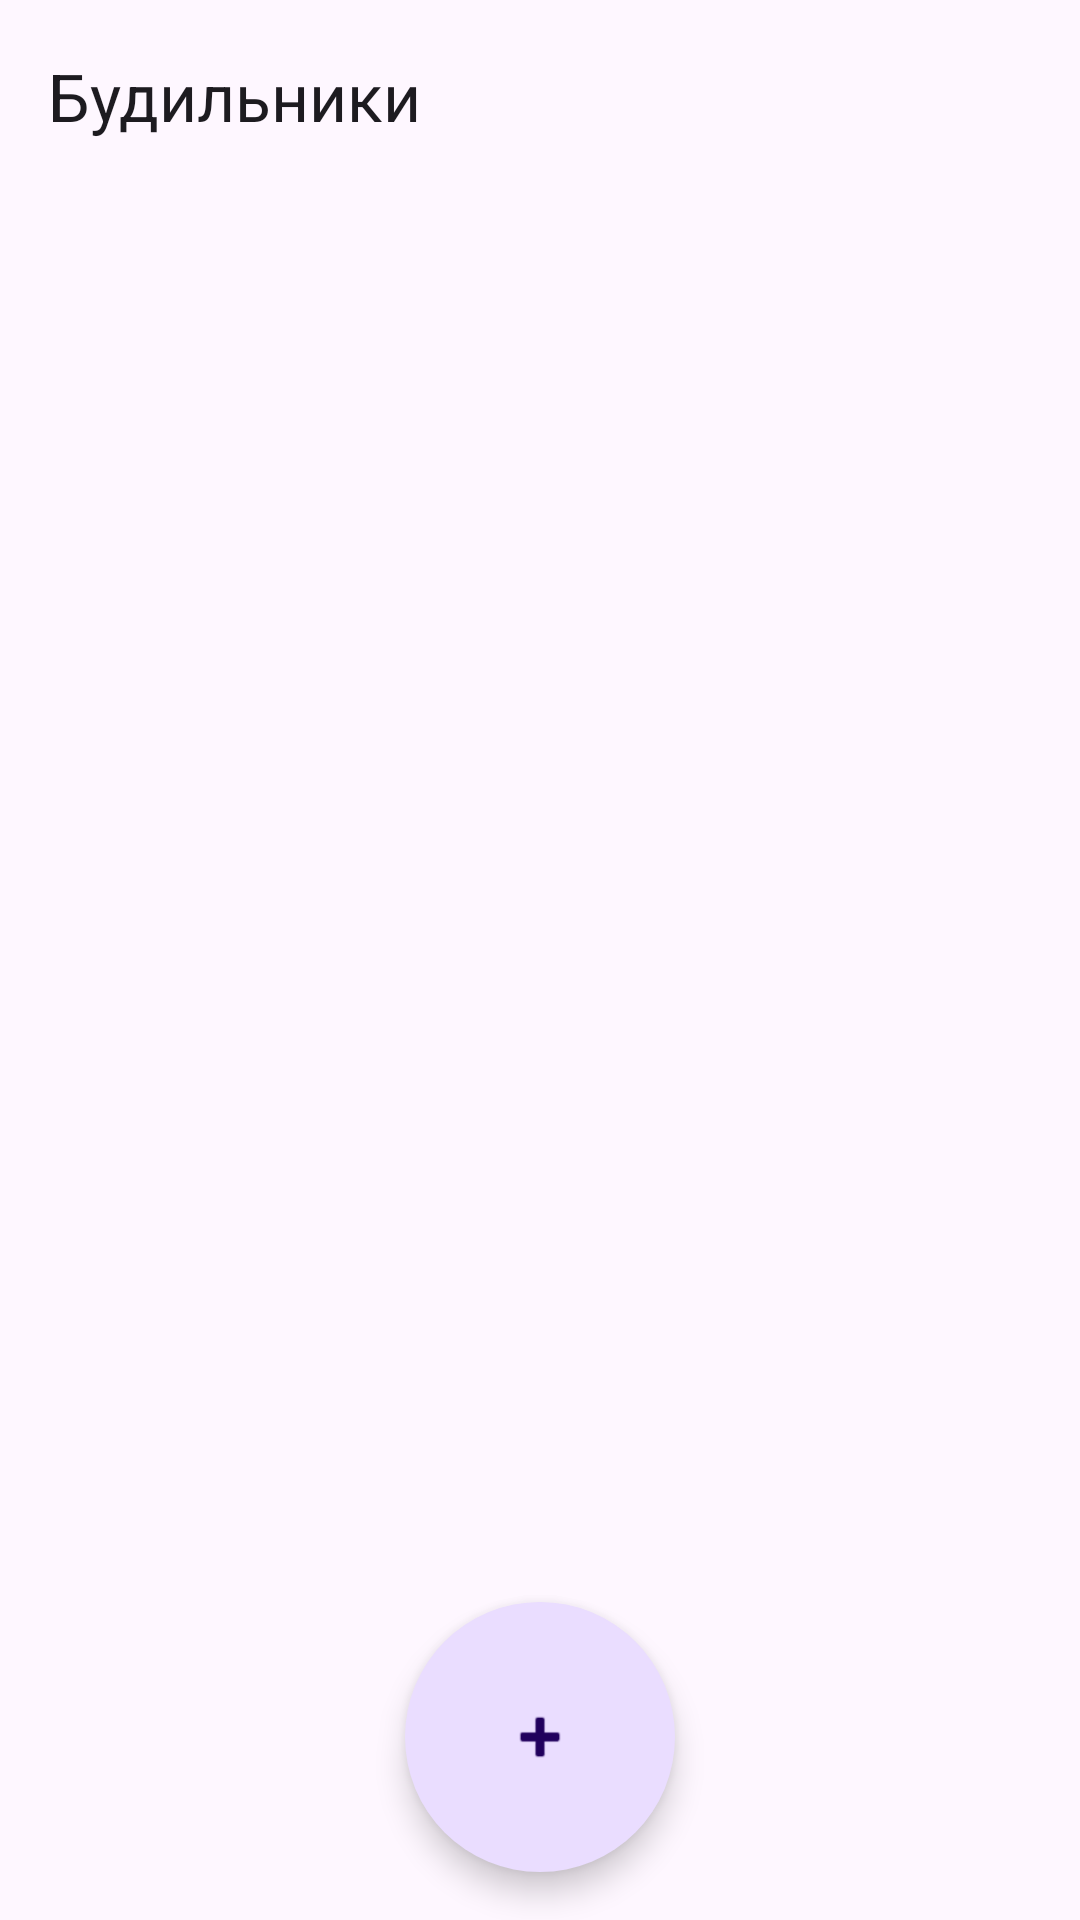

Point at icon controls on the screen. Image size 1080w x 1920h, points as (x,y).
Создать будильник: (540,1737)
